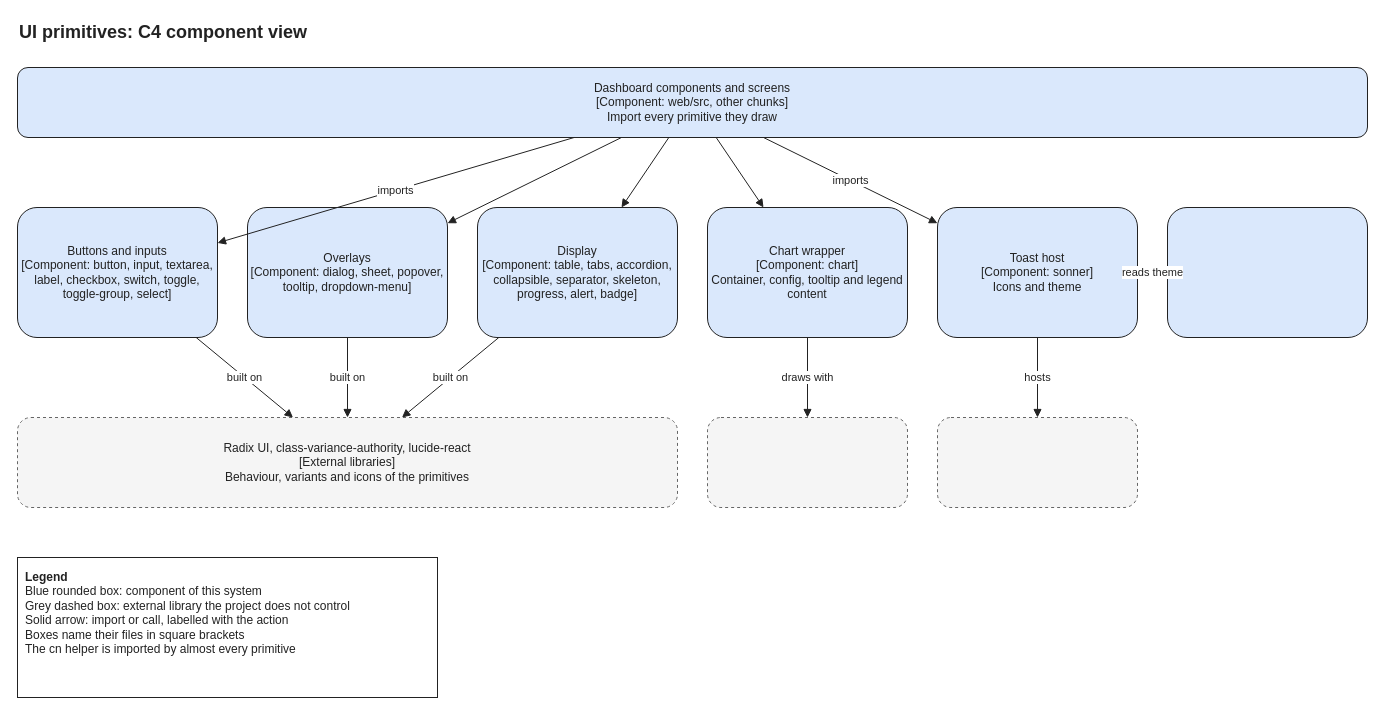
The diagram is 1385 pixels wide and 715 high, and some of its shapes have lost their labels. The shapes that lost their labels are listed below. From the top down, each one's centre as x and y in pixels, then its label:
the point at 1267,272: Rest of web/src [Component: cn helper, theme hook]
the point at 807,462: recharts [External library] Chart drawing
the point at 1037,462: sonner [External library] Toast queue and view
